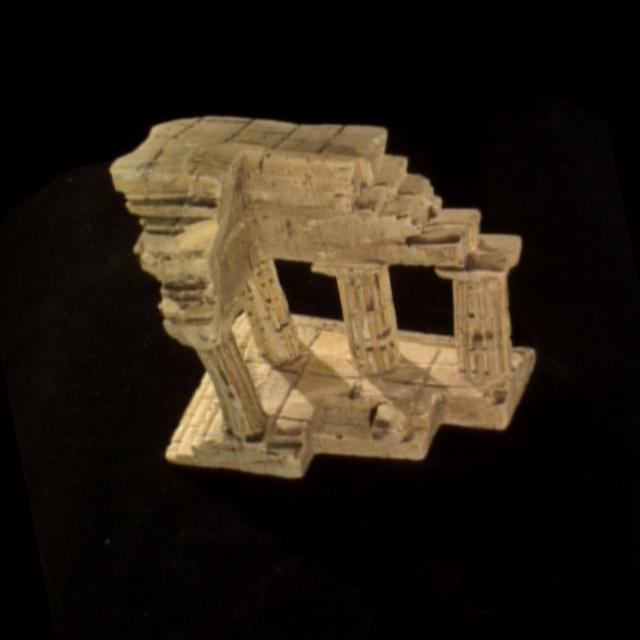Instance-Segmentation: (110, 116, 534, 477)
